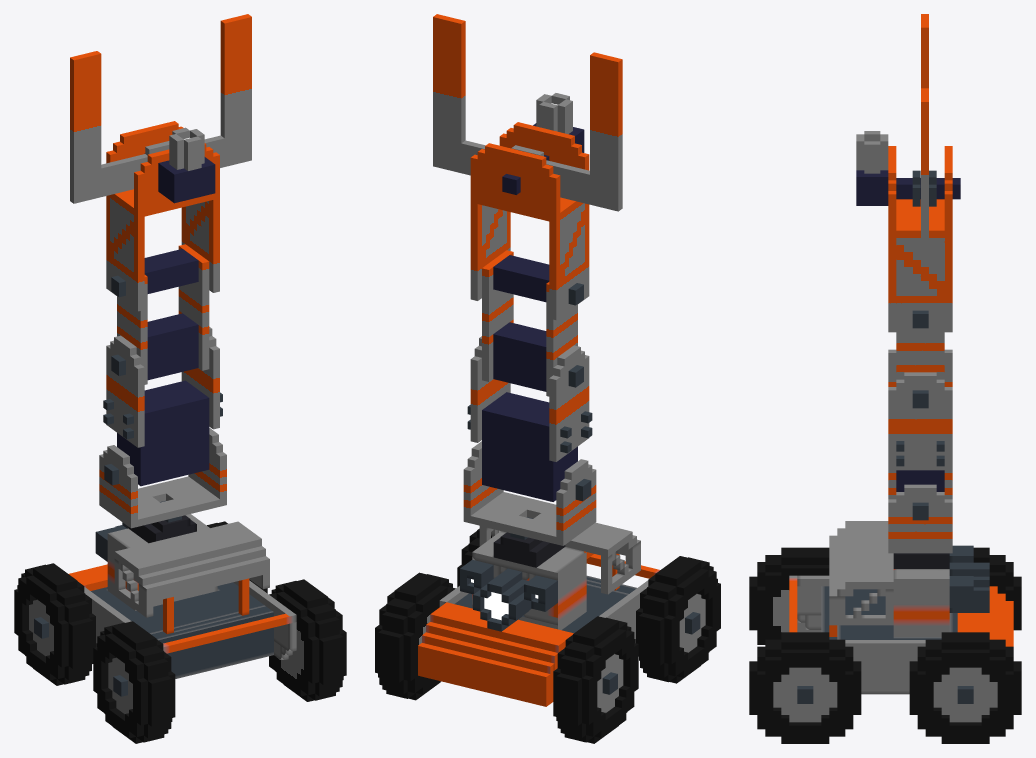
File: Sniper.dae
3 renders of one model, left to right at view 1: azimuth 30°, elevation 25°; view 2: azimuth 150°, elevation 25°; view 3: azimuth 270°, elevation 25°, orthographic. The views are drawn at different scales.
Parts seen in each view (by area): view 1: Body-local, ArmC-local, ArmA-local, RBWheel-local, RFWheel-local, ArmB-local, Arm-local, LBhWheel-local, RClaw-local, LClaw-local; view 2: Body-local, ArmC-local, ArmA-local, RFWheel-local, RBWheel-local, ArmB-local, Arm-local, RClaw-local, LFWheel-local, LClaw-local; view 3: Body-local, ArmC-local, LFWheel-local, LBhWheel-local, ArmA-local, RBWheel-local, Arm-local, ArmB-local, RFWheel-local, LClaw-local, RClaw-local.
Boxes of the visible parts, x1,y1,x2,y2 form: Body-local: (69, 514, 296, 678); ArmC-local: (106, 121, 219, 311); ArmA-local: (103, 327, 222, 486); RBWheel-local: (93, 621, 175, 743); RFWheel-local: (14, 563, 95, 685); ArmB-local: (111, 244, 209, 384); Arm-local: (99, 428, 226, 528); LBhWheel-local: (269, 579, 346, 701); RClaw-local: (70, 51, 147, 203); LClaw-local: (141, 14, 251, 167); Body-local: (418, 522, 659, 706); ArmC-local: (470, 93, 589, 320); ArmA-local: (467, 336, 592, 501); RFWheel-local: (553, 616, 638, 743); RBWheel-local: (636, 556, 720, 683); ArmB-local: (482, 250, 583, 396); Arm-local: (463, 441, 596, 545); RClaw-local: (519, 52, 622, 211); LFWheel-local: (375, 572, 455, 700); LClaw-local: (433, 14, 550, 175); Body-local: (789, 521, 1013, 694); ArmC-local: (856, 131, 960, 332); LFWheel-local: (909, 632, 1021, 743); LBhWheel-local: (749, 632, 861, 743); ArmA-local: (888, 349, 952, 520); RBWheel-local: (749, 547, 829, 644); Arm-local: (888, 470, 952, 553); ArmB-local: (896, 332, 944, 408); RFWheel-local: (973, 547, 1021, 630); LClaw-local: (921, 88, 928, 246); RClaw-local: (921, 14, 928, 88).
Bounding box in the file's own units: 30 × 88 × 34.
